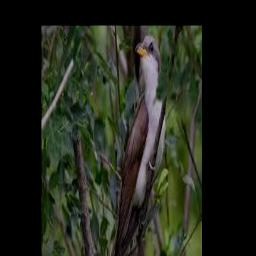Cuckoo: (105, 34, 165, 256)
